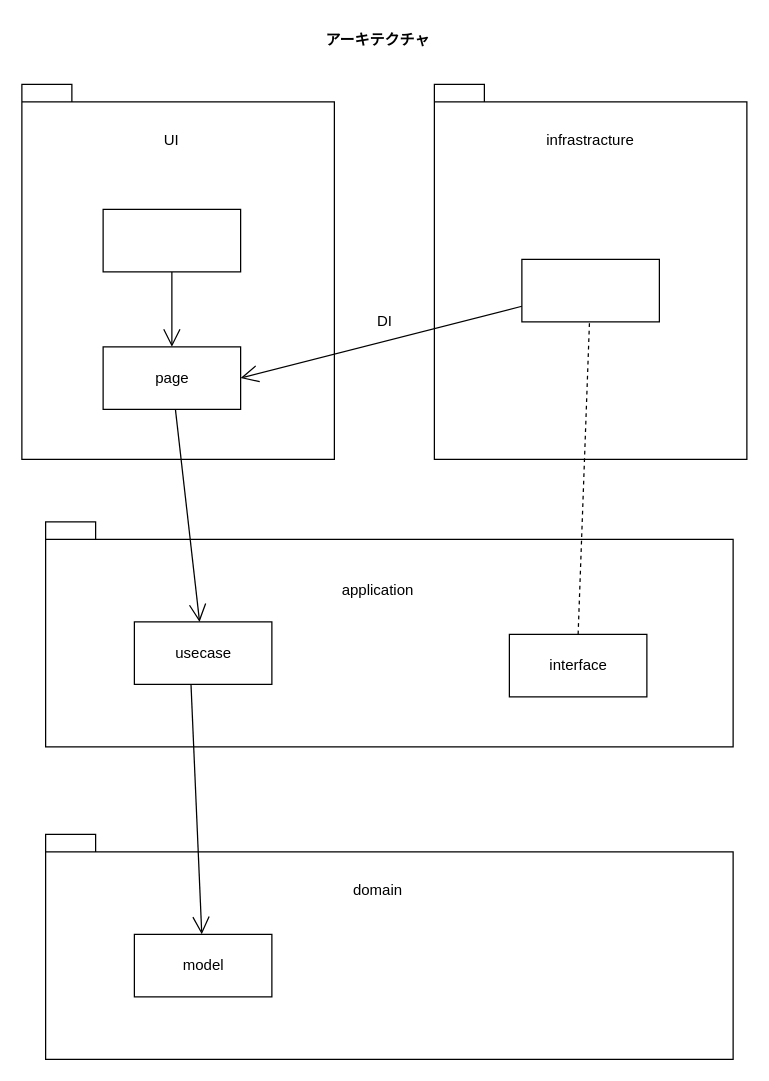
The diagram is 769 pixels wide and 1081 high, and some of its shapes have lost their labels. The shapes that lost their labels are listed below. From the top down, each one's box as (x1, y1, x2, y2) in pixels, then its label:
(102, 208, 241, 272): layout
(521, 258, 659, 322): repository
